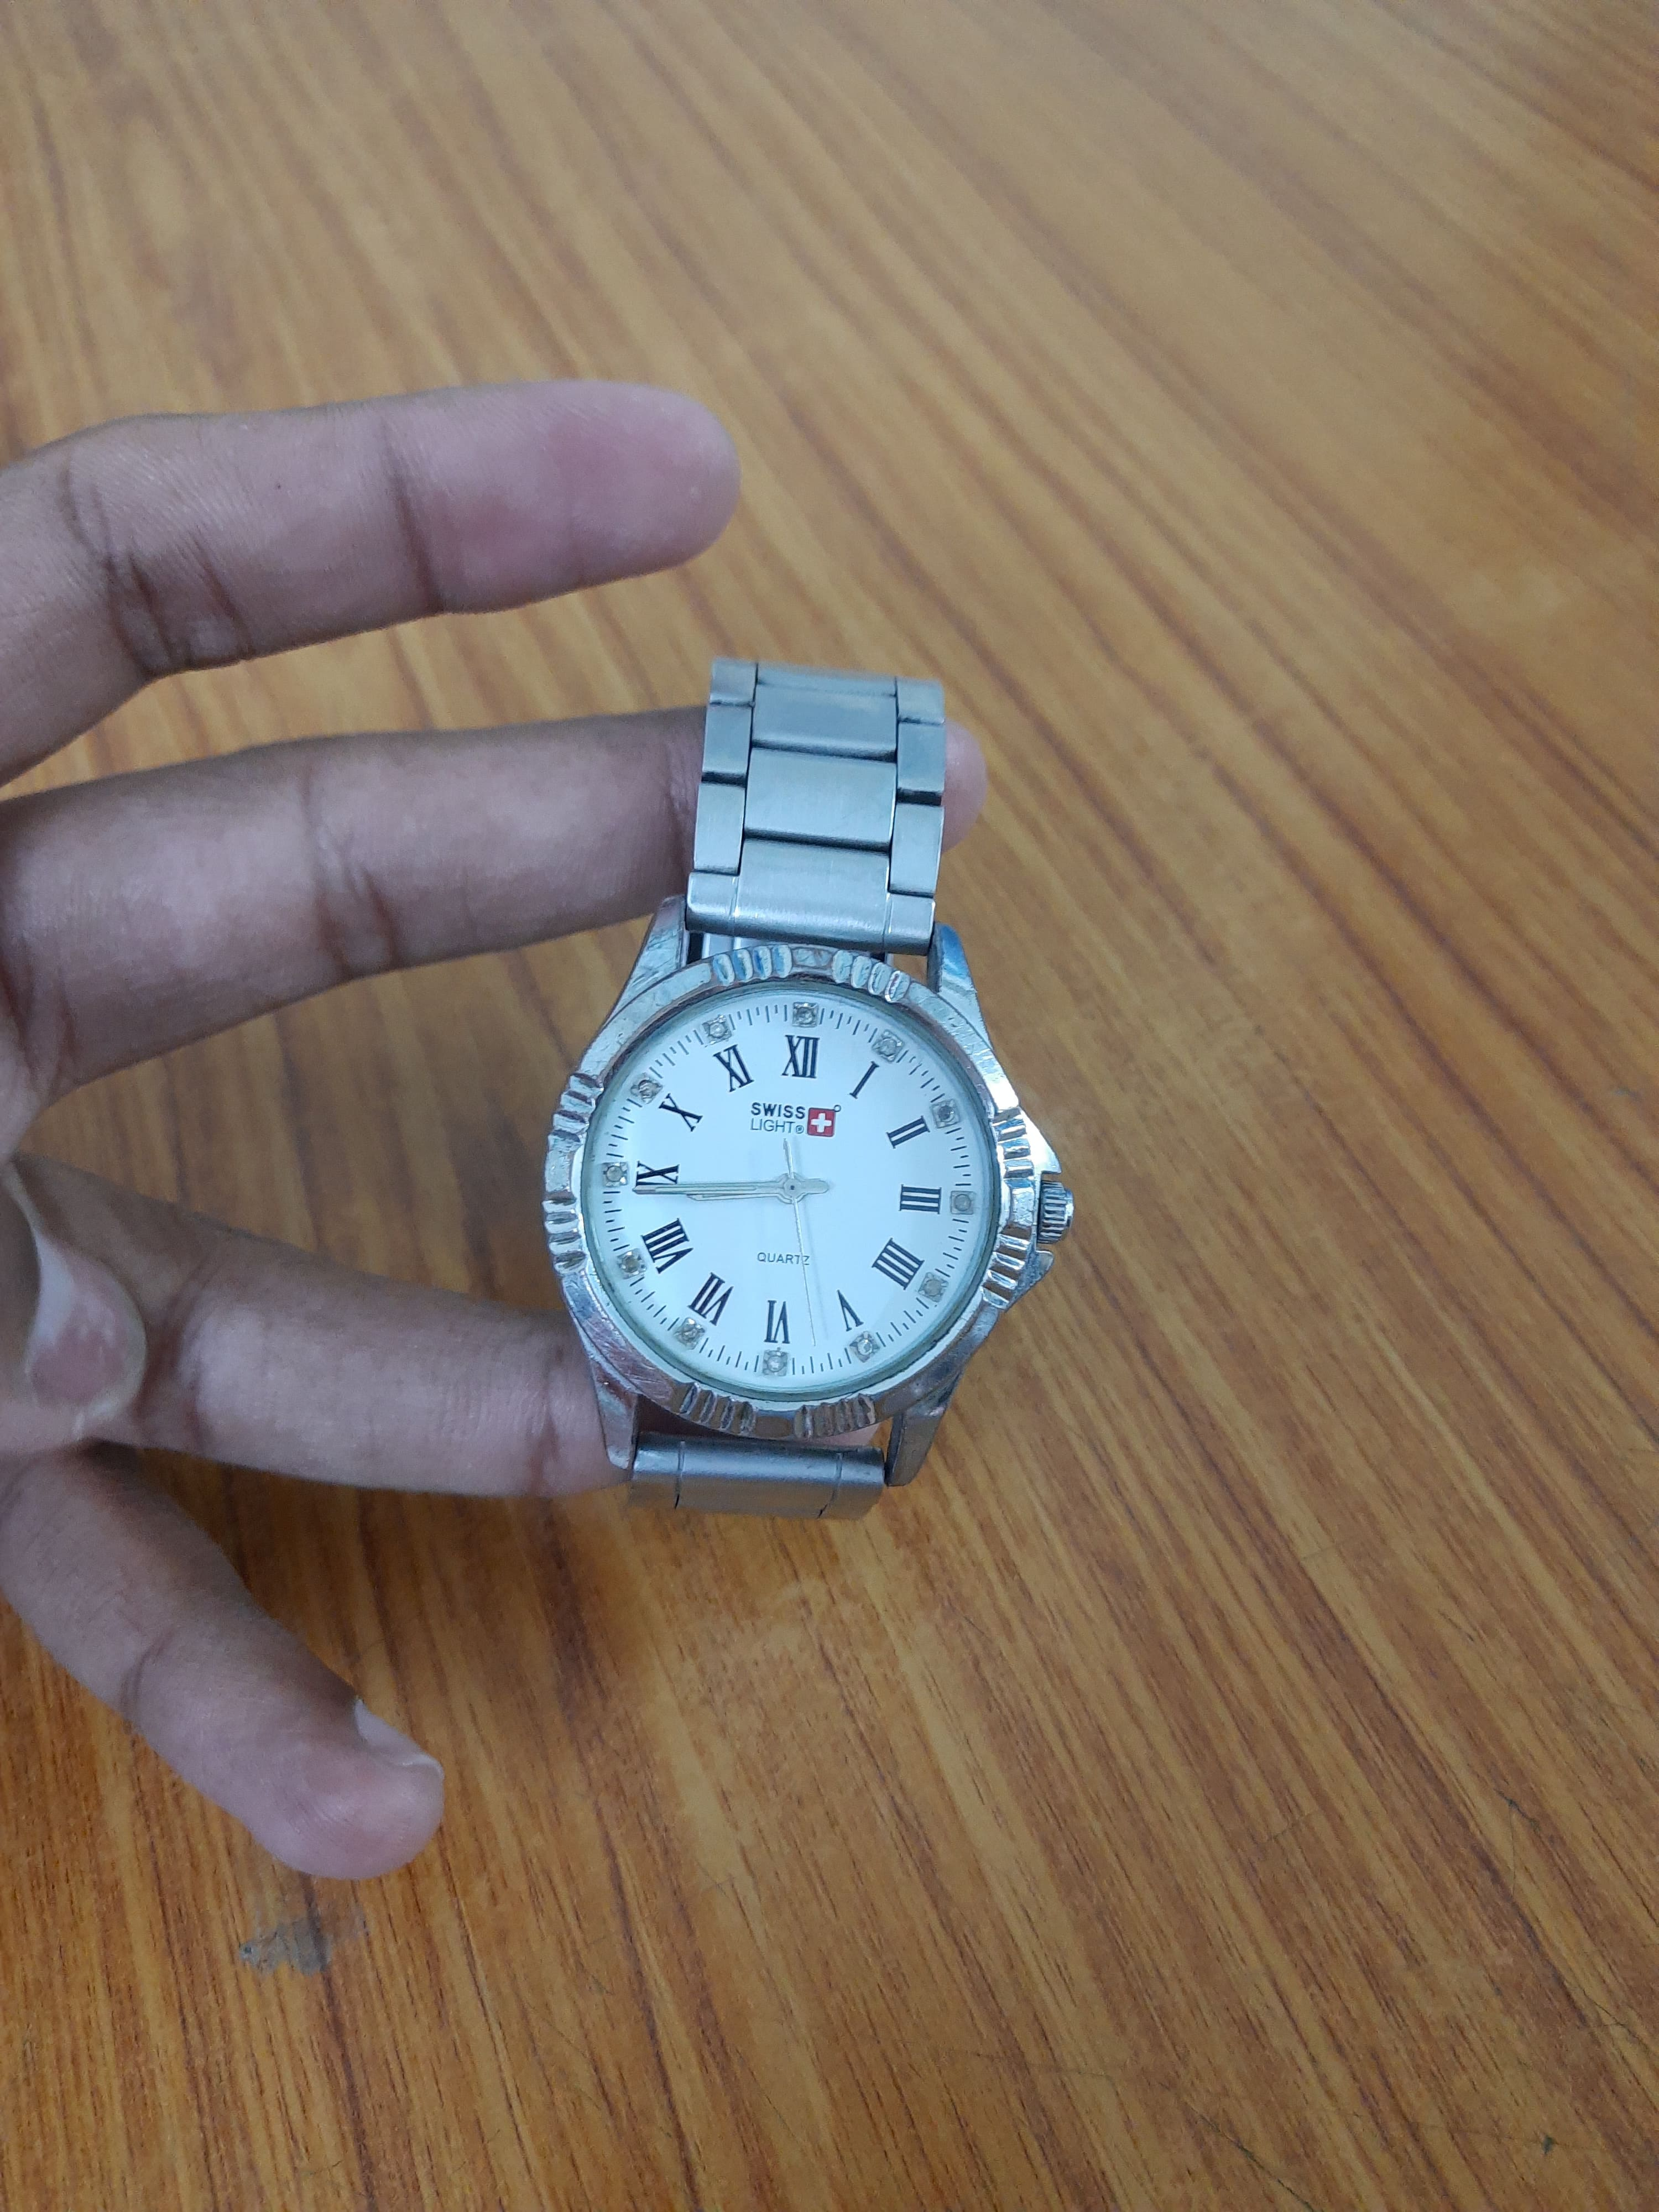Vikash's Watch: (507, 860, 1110, 1505)
